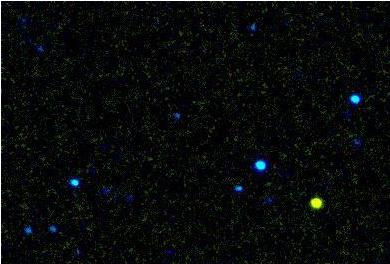star: (299, 188, 329, 218)
